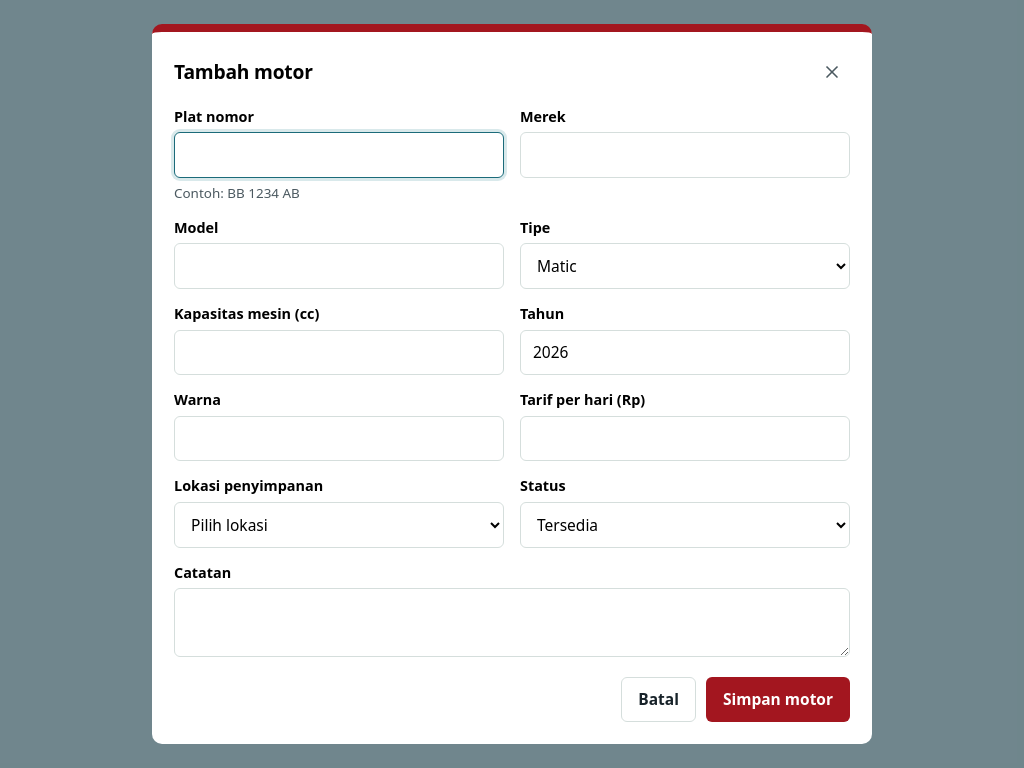
Test case: MotorForm › validasi frontend: tidak mengirim request bila form kosong
The width and height of the screenshot is (1024, 768).
Click the button "Simpan motor". click: (778, 700)
box: [706,677,850,722]
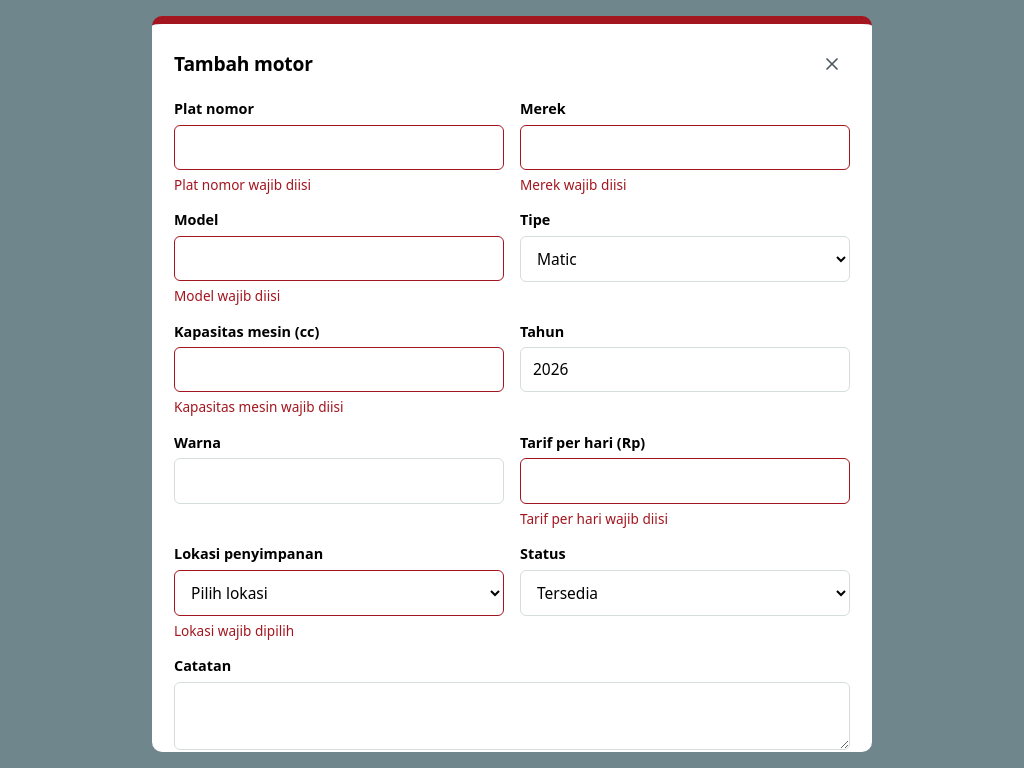
Expected: the text "Plat nomor wajib diisi" is shown, [174,175,311,194]
Expected: the text "Tarif per hari wajib diisi" is shown, [520,509,668,528]
